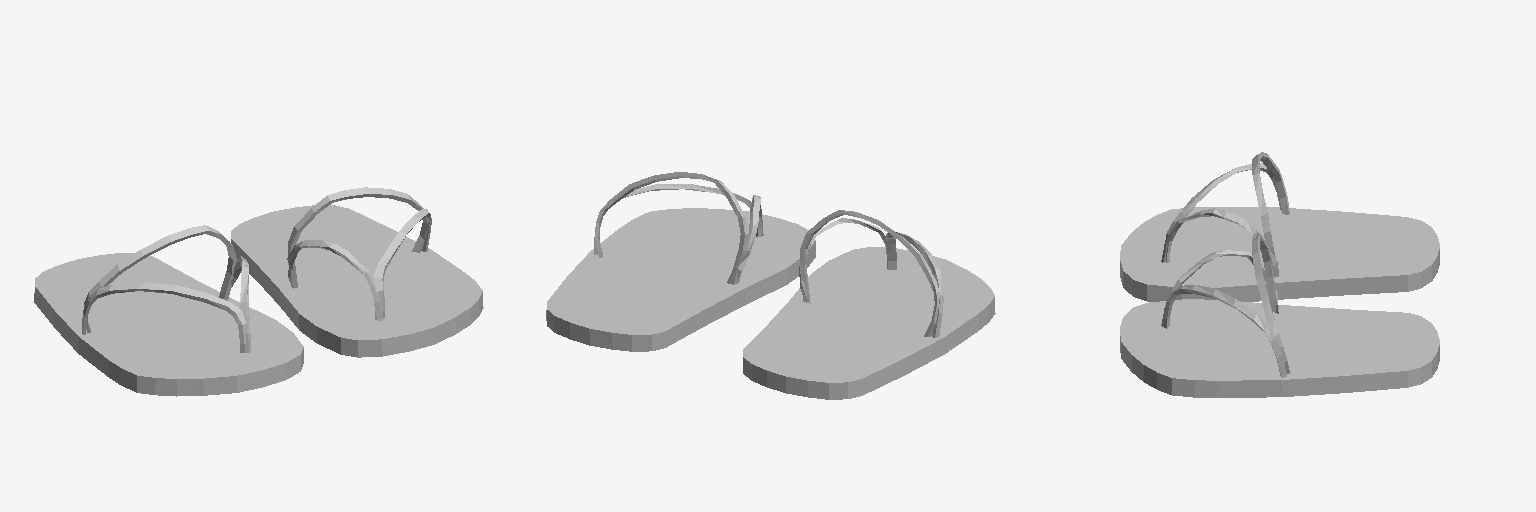
Rendered from luffy_slippers.obj.
3 views of the same model, side by side, from view 1: azimuth 30°, elevation 25°; view 2: azimuth 150°, elevation 25°; view 3: azimuth 270°, elevation 25° (orthographic).
Parts seen in each view (by area): view 1: polySurface1; view 2: polySurface1; view 3: polySurface1.
Boxes of the visible parts, <box> form: polySurface1: <box>34,187,483,396</box>; polySurface1: <box>546,172,995,399</box>; polySurface1: <box>1120,152,1439,397</box>.
Size of the model in its own units: 0.175 by 0.0514 by 0.1359.